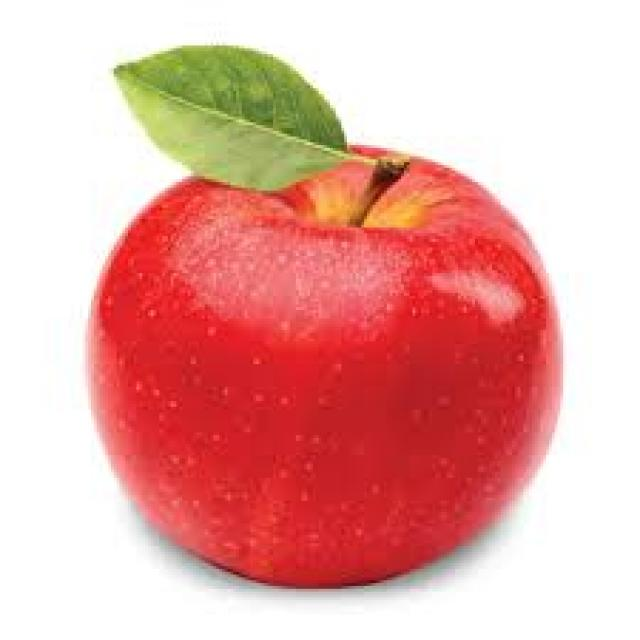organic waste: (89, 139, 560, 586), (102, 40, 358, 196)
